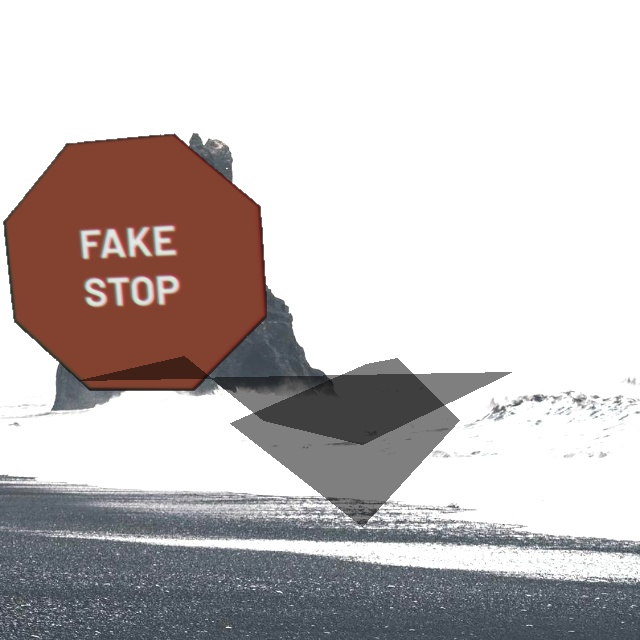FAKE_STOP: (3, 133, 267, 391)
